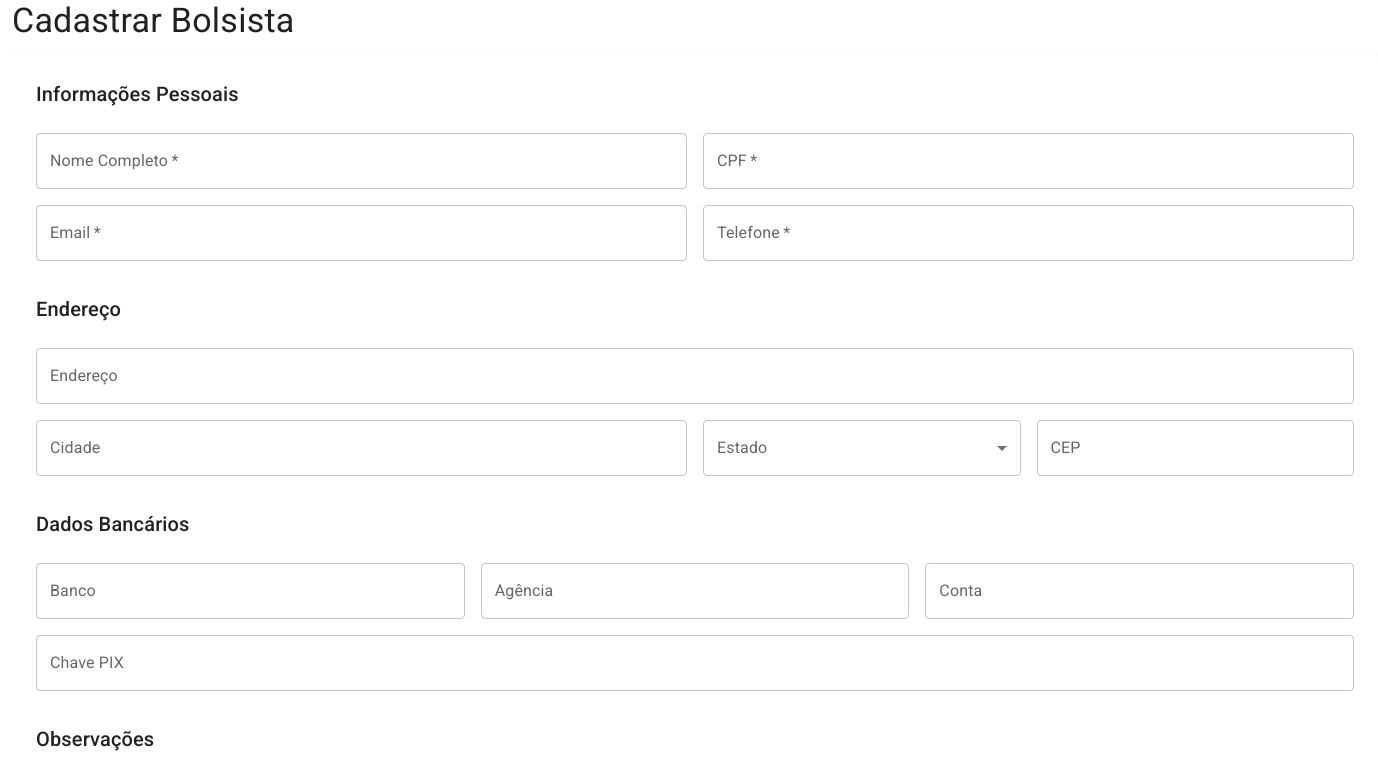
Test: BolsistasForm Component › envia formulário com dados válidos
Type "João da Silva" into the field labelled "Nome Completo *". click: (362, 161)
box: [36,133,687,189]
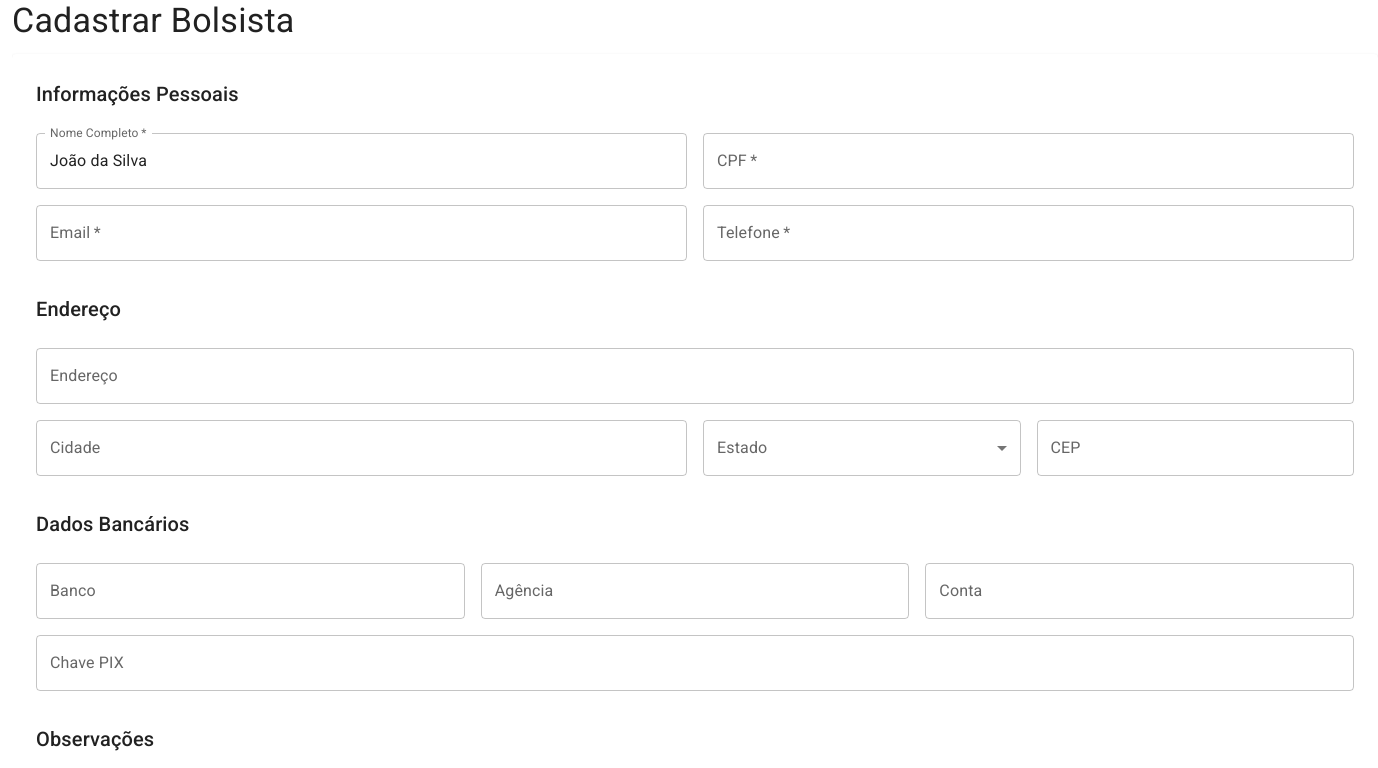
Type "123.456.789-09" into the field labelled "CPF *". click: (1028, 161)
box: [703,133,1354,189]
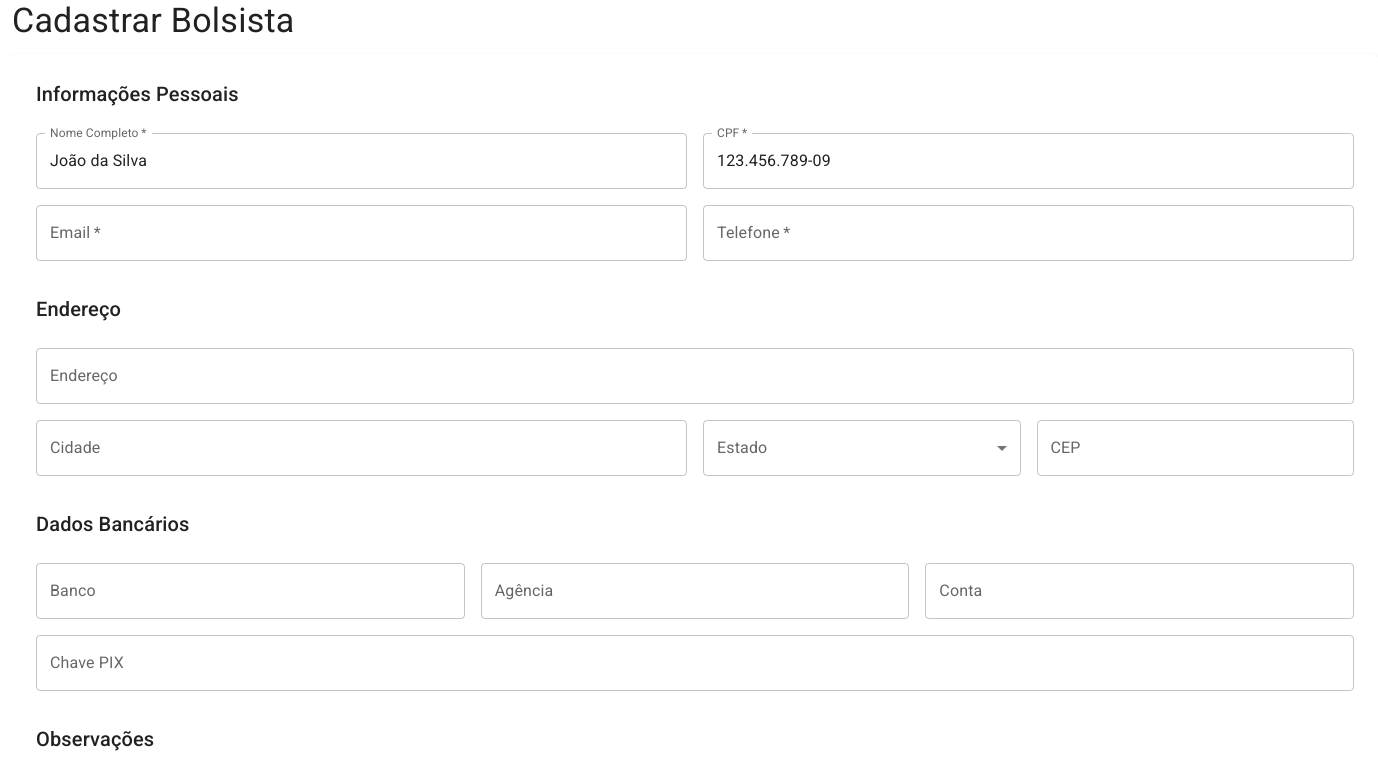
Type "joao@example.com" into the field labelled "Email *". click: (362, 233)
box: [36,205,687,261]
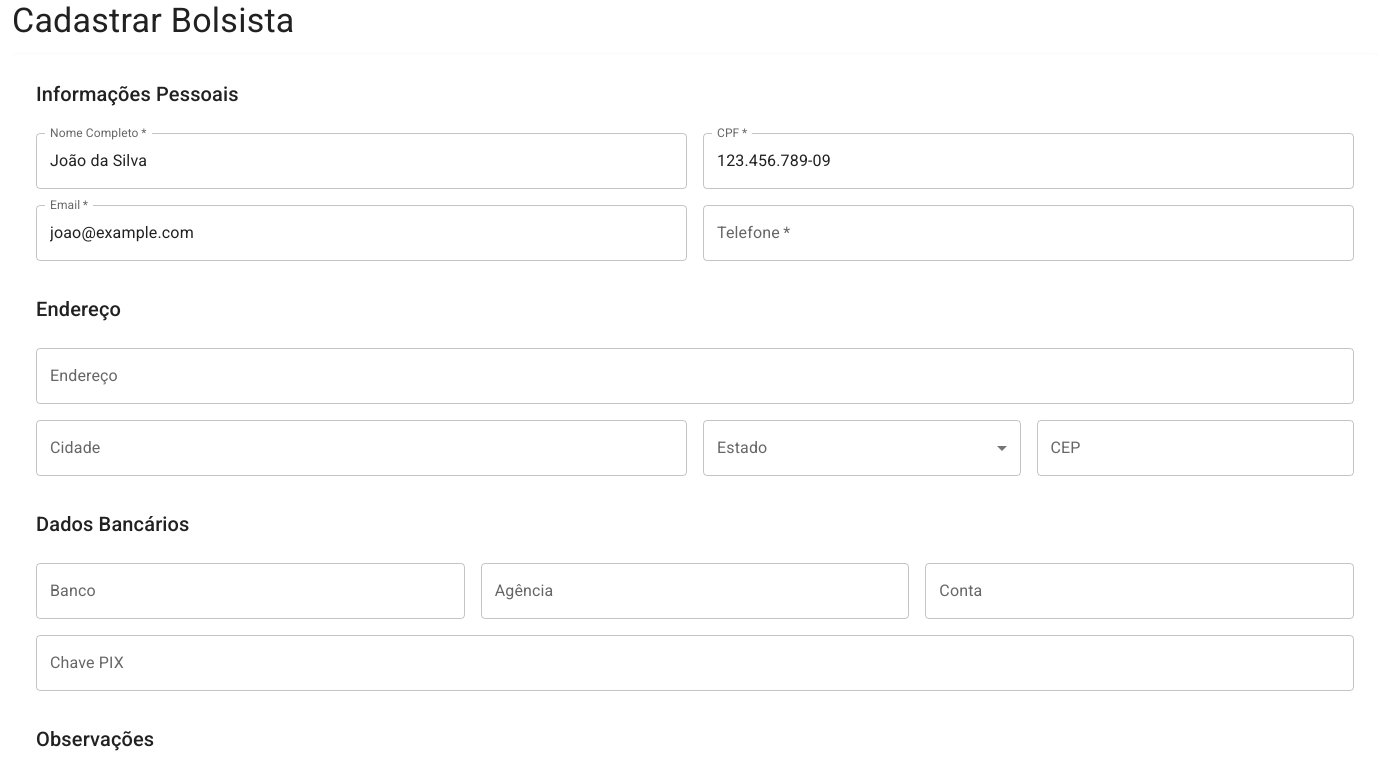
Type "(85) 99999-9999" into the field labelled "Telefone *". click: (1028, 233)
box: [703,205,1354,261]
(page scrolled)
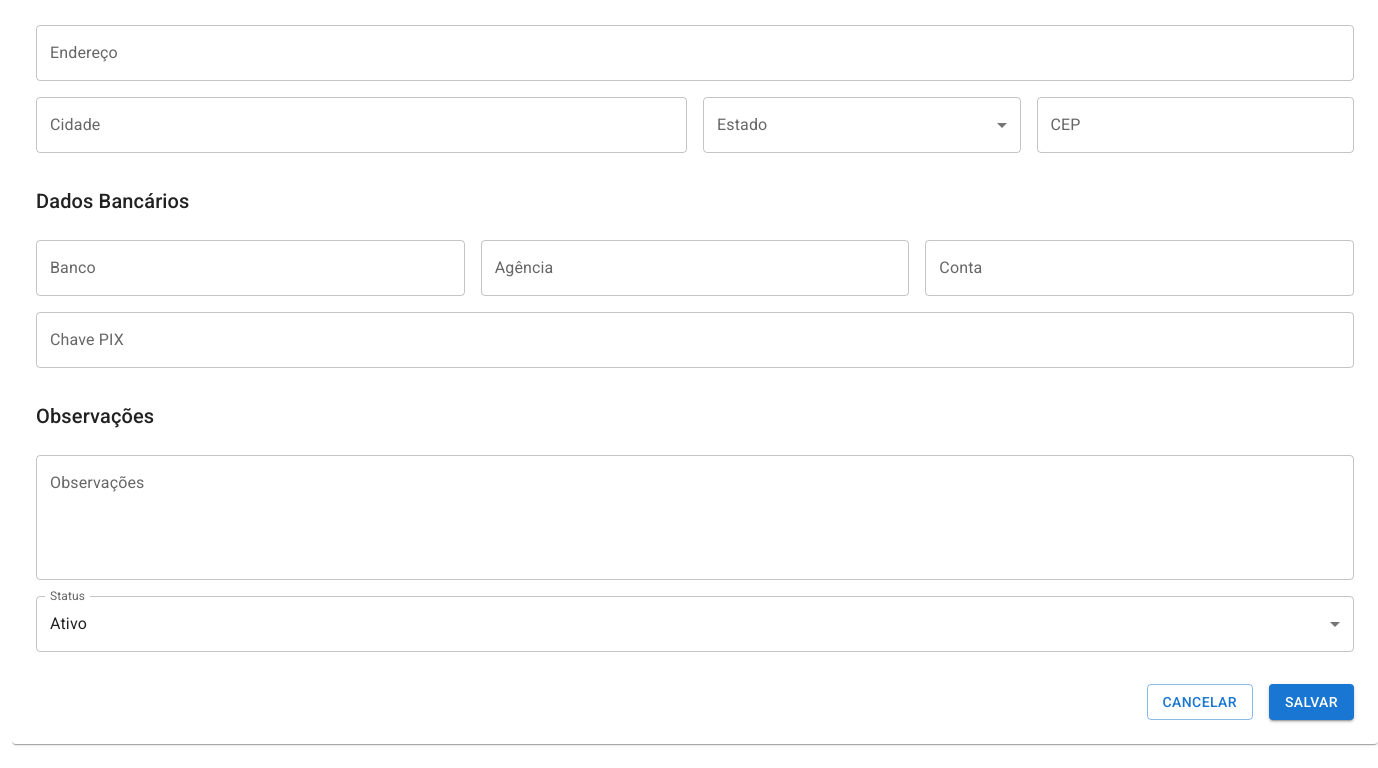
Note: Clicar no botão salvar
Click the button "Salvar". click: (1311, 702)
box: [1269,684,1354,720]
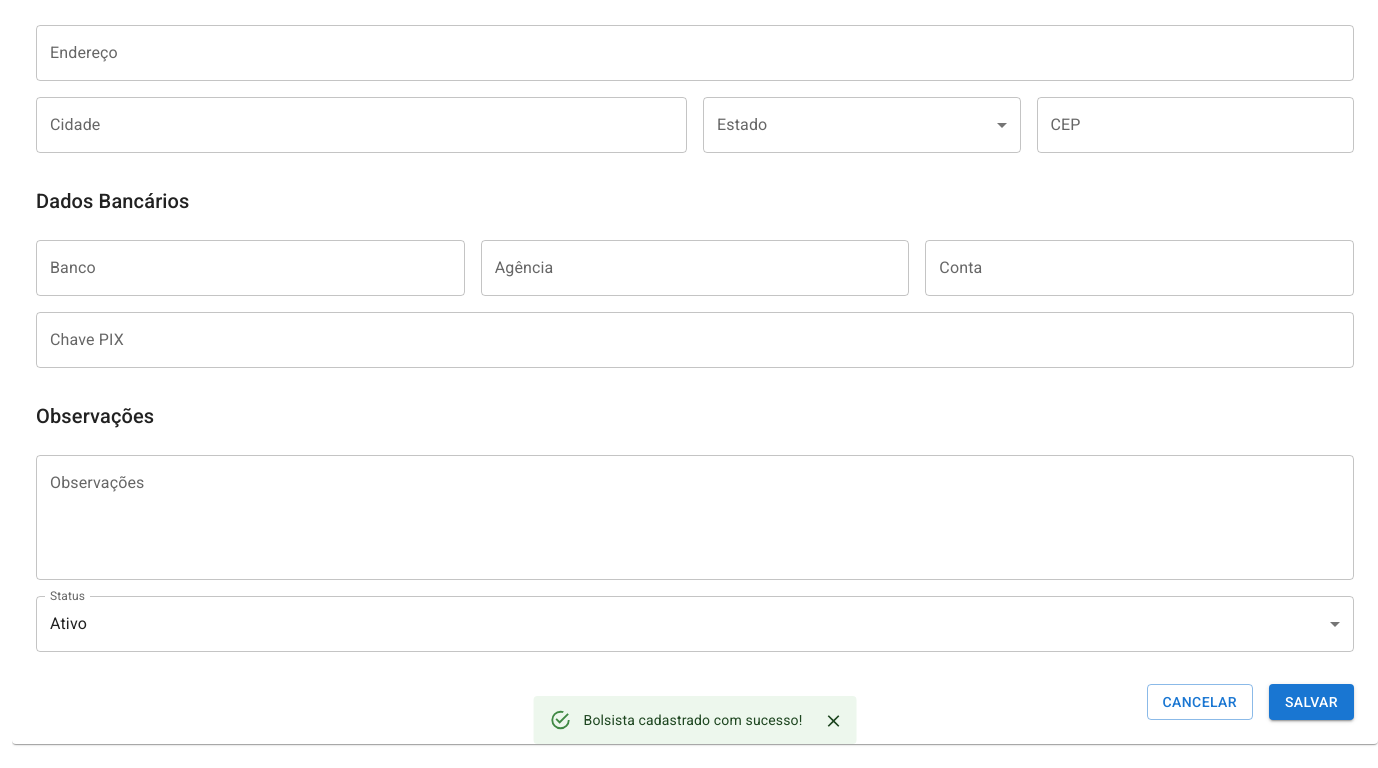
Expected: the text "Bolsista cadastrado com sucesso!" is shown, [584,712,802,728]
